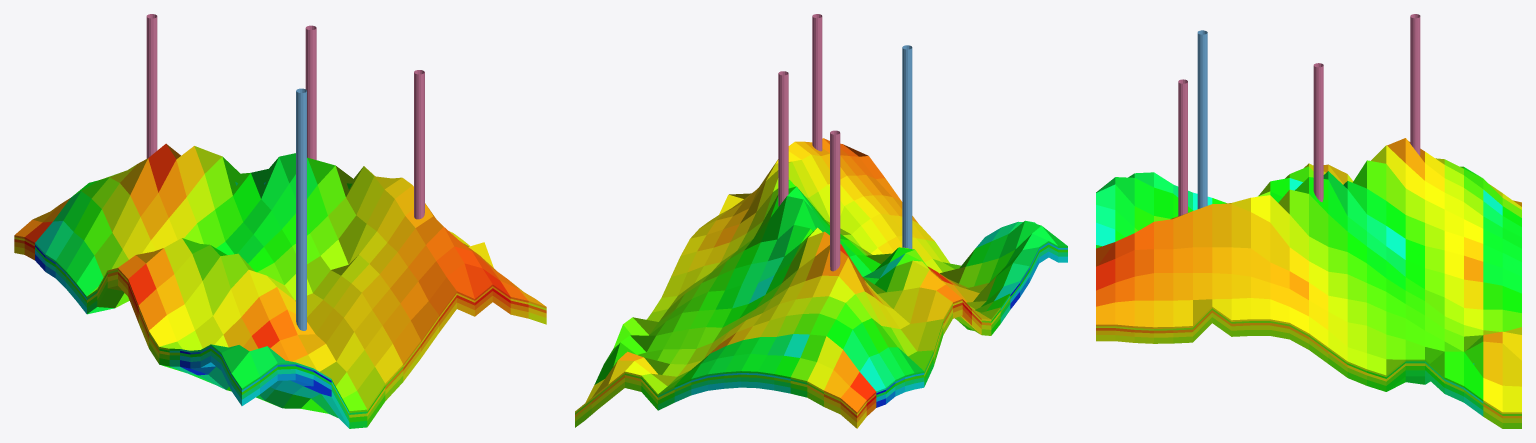
File: permeability-hom-v1.glb
The picture shows the model from 3 angles, left to right: view 1: azimuth 30°, elevation 25°; view 2: azimuth 150°, elevation 25°; view 3: azimuth 270°, elevation 25°; orthographic projection. The views are drawn at different scales.
Visible parts, largest first — view 1: reservoir, INJ, PROD-2, PROD-3, PROD-1; view 2: reservoir, INJ, PROD-2, PROD-3, PROD-1; view 3: reservoir, INJ, PROD-2, PROD-1, PROD-3.
Part boxes in pixels (left/top/right/bottom): reservoir: left=14, top=143, right=546, bottom=428; INJ: left=296, top=88, right=306, bottom=330; PROD-2: left=146, top=14, right=157, bottom=158; PROD-3: left=414, top=70, right=424, bottom=219; PROD-1: left=305, top=25, right=316, bottom=159; reservoir: left=575, top=138, right=1067, bottom=428; INJ: left=902, top=45, right=912, bottom=248; PROD-2: left=830, top=130, right=840, bottom=271; PROD-3: left=812, top=14, right=822, bottom=151; PROD-1: left=778, top=71, right=788, bottom=206; reservoir: left=1096, top=138, right=1521, bottom=428; INJ: left=1197, top=30, right=1207, bottom=208; PROD-2: left=1410, top=14, right=1420, bottom=155; PROD-1: left=1313, top=63, right=1323, bottom=201; PROD-3: left=1178, top=79, right=1187, bottom=216.
Size of the model in its own units: 0.3864 by 0.4023 by 0.5.
3 materials, 1 textured.
